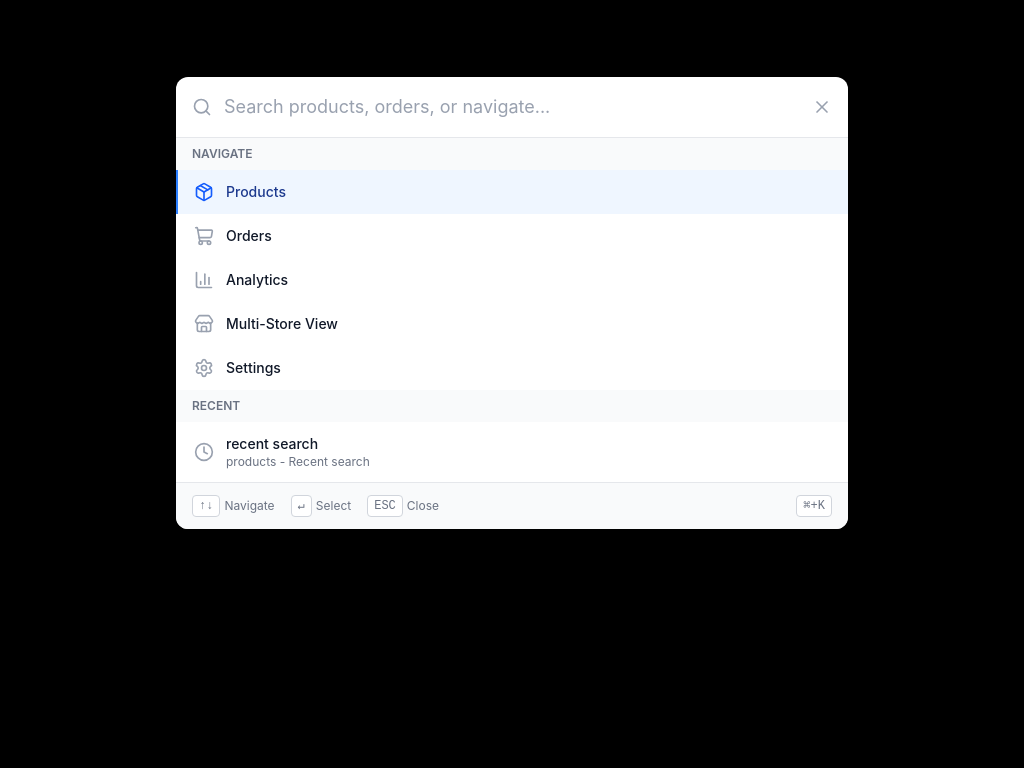
QuickSwitcher › Search Functionality › should search products when typing
Type "test" into the field with placeholder "Search products, orders, or navigate..." at (512, 107), box [224, 93, 800, 121]
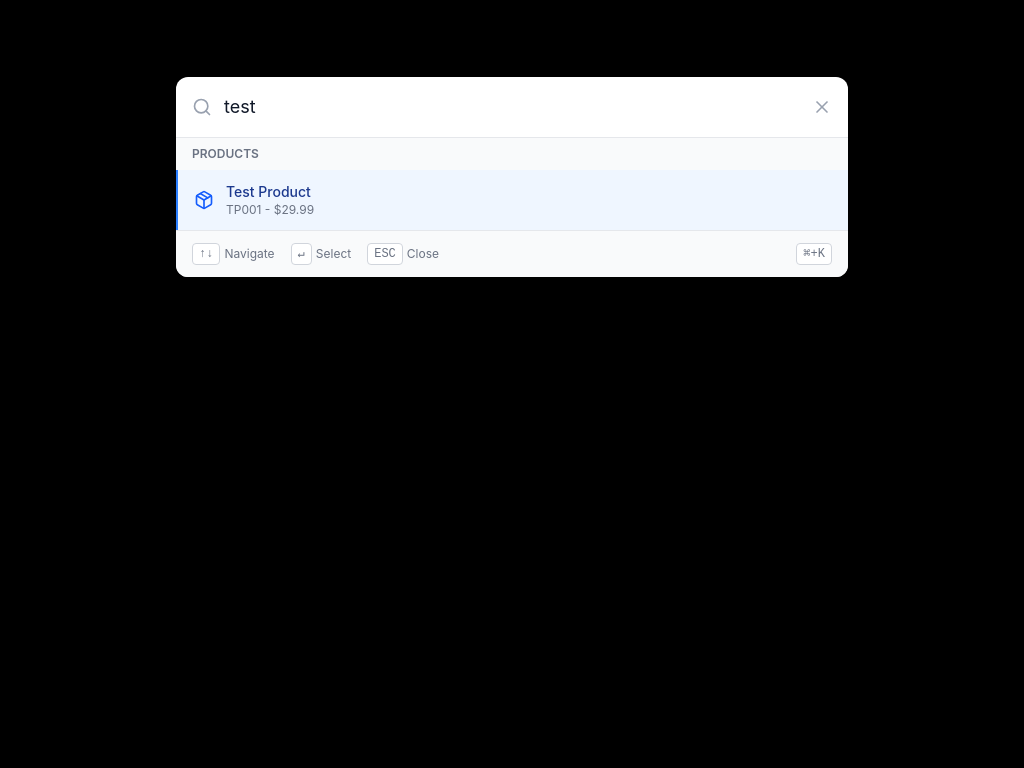
Result: the text "Test Product" is shown at [226, 183, 311, 200]
